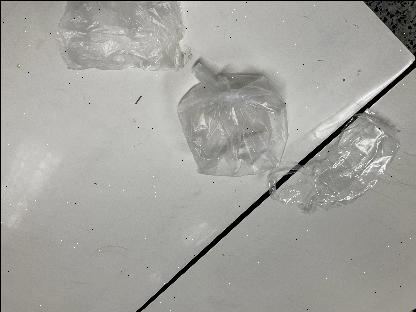Others: (264, 112, 406, 222), (174, 64, 298, 178), (52, 1, 186, 72)
